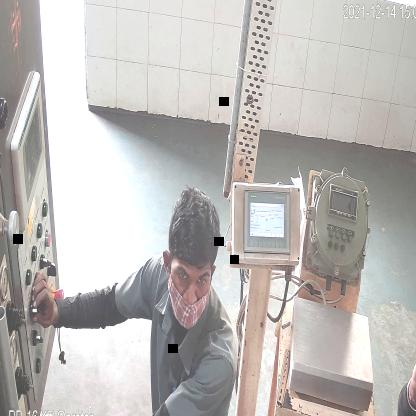no_goggles: (172, 262, 212, 292)
